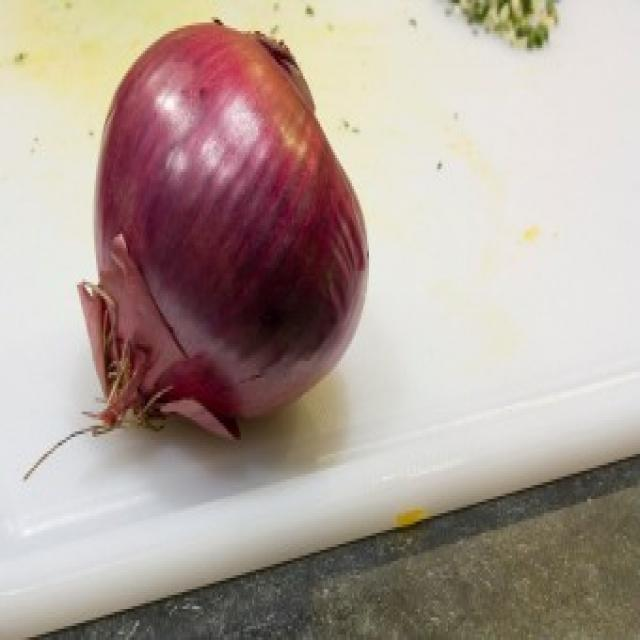onion: (53, 18, 413, 452)
